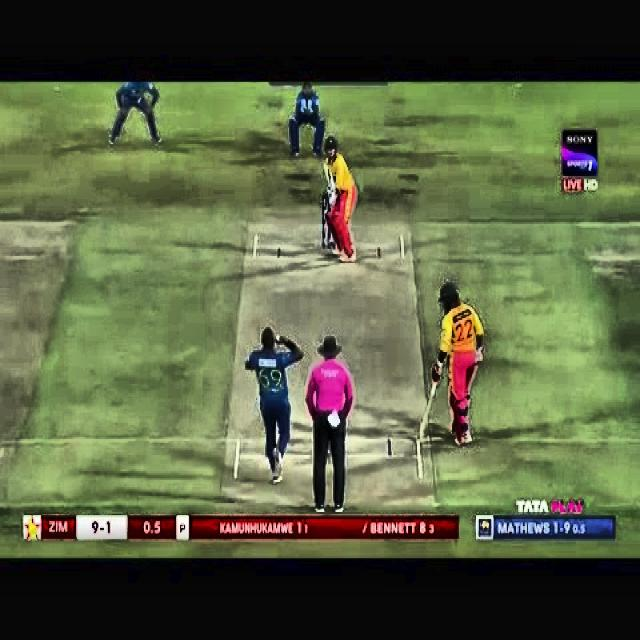Left-stump: (323, 194, 326, 247)
Middle-stump: (328, 228, 331, 248)
